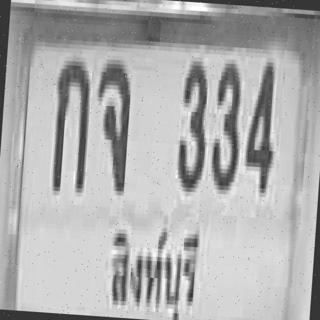A01: (49, 56, 92, 188)
A08: (90, 59, 131, 191)
N03: (175, 56, 210, 188), (209, 59, 243, 186)
N04: (242, 56, 278, 188)
P62: (96, 210, 205, 320)
